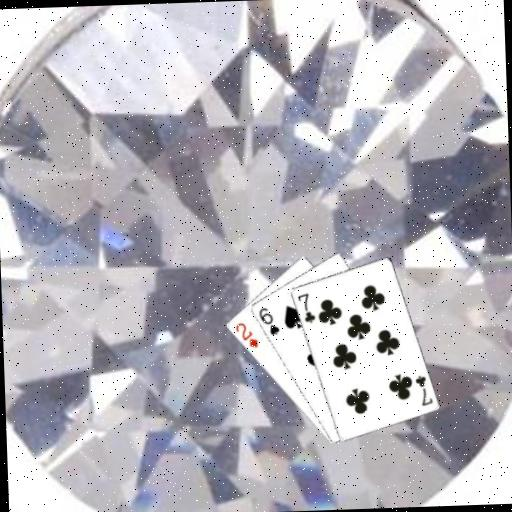2D: (231, 319, 259, 350)
6S: (255, 304, 281, 337)
7C: (294, 289, 317, 325), (411, 372, 434, 408)
